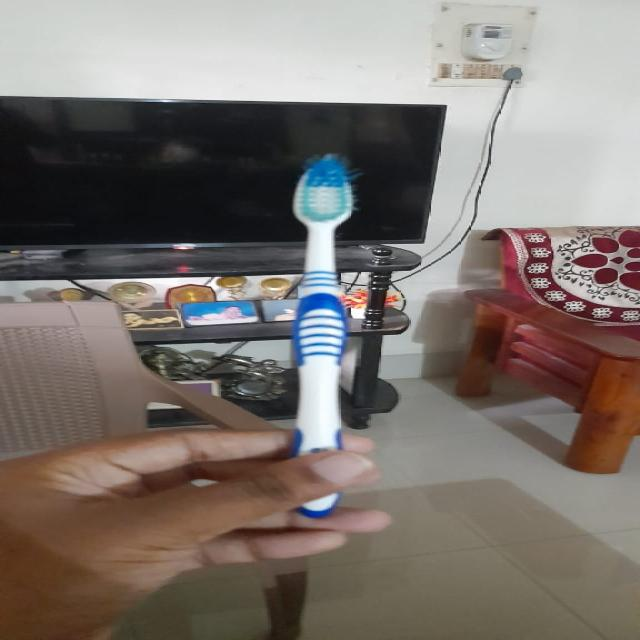Tooth_Brush - Non Recyclable: (252, 144, 447, 536)
